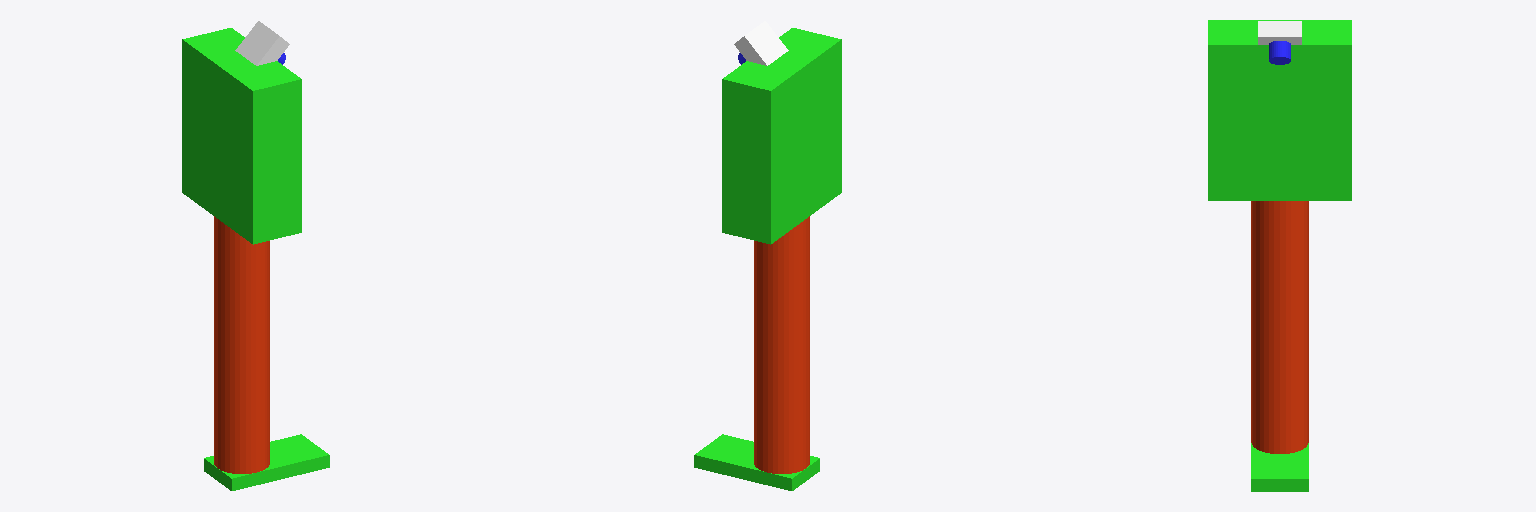
robot.urdf — biped:
<?xml version="1.0"?>
<robot name="biped">

    <!-- Define the body parameters -->
    <link name="base_link">
        <visual>
            <origin xyz="0 0 0" rpy="0 0 0"/>
            <geometry>
                <box size="0.2 0.5 0.6" />
            </geometry>
            <material name="green">
                <color rgba="0.2 1 0.2 1"/>
            </material>
        </visual>
        <collision>
            <origin xyz="0 0 0" rpy="0 0 0"/>
            <geometry>
                <box size="0.2 0.5 0.6" />
            </geometry>
        </collision>
        <inertial>
            <origin xyz="0 0 0" rpy="0 0 0"/>
            <mass value="0.1" />
            <inertia ixx="2.26" ixy="0.0" ixz="0.0" iyy="6.26" iyz="0.0" izz="8.5" />
        </inertial>
    </link>

    <joint name="toss_joint_1" type="revolute"> 
        <origin xyz="0 0 -0.3" rpy="0 0 0"/>
        <parent link="base_link"/>
        <child link="thigh_link_1"/>
        <axis xyz="0 -1 0"/>
        <limit lower="-1.047" upper="1.571" velocity="100" effort="100"/> 
    </joint>

    <link name="thigh_link_1">
        <visual>
            <origin xyz="0 0 -0.25" rpy="0 0 0"/>
            <geometry>                
                <cylinder length="0.5" radius="0.1" />
            </geometry>
            <material name="orange">
                <color rgba="1 0.3 0.1 1"/>
            </material>
        </visual>
        <collision>
            <origin xyz="0 0 -0.25" rpy="0 0 0"/>
            <geometry>
                <cylinder length="0.5" radius="0.1" />
            </geometry>
        </collision>
        <inertial>
            <origin xyz="0 0 -0.25" rpy="0 0 0"/>
            <mass value="10.0" />
            <inertia ixx="0.021875" ixy="0.0" ixz="0.0" iyy="0.021875" iyz="0.0" izz="0.0125" />
        </inertial>
    </link>

    <joint name="toss_joint_2" type="revolute"> 
        <origin xyz="0 0 -0.3" rpy="0 0 0"/>
        <parent link="base_link"/>
        <child link="thigh_link_2"/>
        <axis xyz="0 -1 0"/>
        <limit lower="-1.047" upper="1.571" velocity="100" effort="100"/> 
    </joint>

    <link name="thigh_link_2">
        <visual>
            <origin xyz="0 0 -0.25" rpy="0 0 0"/>
            <geometry>                
                <cylinder length="0.5" radius="0.1" />
            </geometry>
            <material name="blue">
                <color rgba="1 0.3 0.1 1"/>
            </material>
        </visual>
        <collision>
            <origin xyz="0 0 -0.25" rpy="0 0 0"/>
            <geometry>
                <cylinder length="0.5" radius="0.1" />
            </geometry>
        </collision>
        <inertial>
            <origin xyz="0 0 -0.25" rpy="0 0 0"/>
            <mass value="10.0" />
            <inertia ixx="0.021875" ixy="0.0" ixz="0.0" iyy="0.021875" iyz="0.0" izz="0.0125" />
        </inertial>
    </link>

    <joint name="knee_joint_1" type="revolute"> 
        <origin xyz="0 0 -0.5" rpy="0 0 0"/>
        <parent link="thigh_link_1"/>
        <child link="calf_link_1"/>
        <axis xyz="0 -1 0"/>
        <limit lower="-1.571" upper="0" velocity="100" effort="100"/> 
    </joint>

    <link name="calf_link_1">
        <visual>
            <origin xyz="0 0 -0.25" rpy="0 0 0"/>
            <geometry>                
                <cylinder length="0.5" radius="0.1" />
            </geometry>
            <material name="orange">
                <color rgba="1 0.3 0.1 1"/>
            </material>
        </visual>
        <collision>
            <origin xyz="0 0 -0.25" rpy="0 0 0"/>
            <geometry>
                <cylinder length="0.5" radius="0.1" />
            </geometry>
        </collision>
        <inertial>
            <origin xyz="0 0 -0.25" rpy="0 0 0"/>
            <mass value="10.0" />
            <inertia ixx="0.021875" ixy="0.0" ixz="0.0" iyy="0.021875" iyz="0.0" izz="0.0125" />
        </inertial>
    </link>

    <joint name="knee_joint_2" type="revolute"> 
        <origin xyz="0 0 -0.5" rpy="0 0 0"/>
        <parent link="thigh_link_2"/>
        <child link="calf_link_2"/>
        <axis xyz="0 -1 0"/>
        <limit lower="-1.571" upper="0" velocity="100" effort="100"/> 
    </joint>

    <link name="calf_link_2">
        <visual>
            <origin xyz="0 0 -0.25" rpy="0 0 0"/>
            <geometry>                
                <cylinder length="0.5" radius="0.1" />
            </geometry>
            <material name="blue">
                <color rgba="1 0.3 0.1 1"/>
            </material>
        </visual>
        <collision>
            <origin xyz="0 0 -0.25" rpy="0 0 0"/>
            <geometry>
                <cylinder length="0.5" radius="0.1" />
            </geometry>
        </collision>
        <inertial>
            <origin xyz="0 0 -0.25" rpy="0 0 0"/>
            <mass value="10.0" />
            <inertia ixx="0.021875" ixy="0.0" ixz="0.0" iyy="0.021875" iyz="0.0" izz="0.0125" />
        </inertial>
    </link>

    <joint name="ankle_joint_1" type="fixed"> 
        <origin xyz="0 0 -0.5" rpy="0 0 0"/>
        <parent link="calf_link_1"/>
        <child link="foot_link_1"/>
    </joint>

    <link name="foot_link_1">
        <visual>
            <origin xyz="0.1 0 0" rpy="0 0 0"/>
            <geometry>
                <box size="0.4 0.2 0.05" />
            </geometry>
            <material name="green">
                <color rgba="0.2 1 0.2 1"/>
            </material>
        </visual>
        <collision>
            <origin xyz="0.1 0 0" rpy="0 0 0"/>
            <geometry>
                <box size="0.4 0.2 0.05" />
            </geometry>
        </collision>
        <inertial>
            <origin xyz="0.1 0 0" rpy="0 0 0"/>
            <mass value="100" />
            <inertia ixx="2.26" ixy="0.0" ixz="0.0" iyy="6.26" iyz="0.0" izz="8.5" />
        </inertial>
    </link>

    <joint name="ankle_joint_2" type="fixed"> 
        <origin xyz="0 0 -0.5" rpy="0 0 0"/>
        <parent link="calf_link_2"/>
        <child link="foot_link_2"/>
    </joint>

    <link name="foot_link_2">
        <visual>
            <origin xyz="0.1 0 0" rpy="0 0 0"/>
            <geometry>
                <box size="0.4 0.2 0.05" />
            </geometry>
            <material name="green">
                <color rgba="0.2 1 0.2 1"/>
            </material>
        </visual>
        <collision>
            <origin xyz="0.1 0 0" rpy="0 0 0"/>
            <geometry>
                <box size="0.4 0.2 0.05" />
            </geometry>
        </collision>
        <inertial>
            <origin xyz="0.1 0 0" rpy="0 0 0"/>
            <mass value="100" />
            <inertia ixx="2.26" ixy="0.0" ixz="0.0" iyy="6.26" iyz="0.0" izz="8.5" />
        </inertial>
    </link>

    <joint name="camera_joint" type="fixed">
        <origin xyz="0.1 0 0.3" rpy="0 0.785 0"/>
        <parent link="base_link"/>
        <child link="camera_link"/>        
    </joint>

    <link name="camera_link">
        <visual>
            <origin xyz="-0.03 0 0" rpy="0 0 0"/>
            <geometry>
                <box size="0.06 0.15 0.15" />
            </geometry>
            <material name="white">
                <color rgba="1 1 1 1"/>
            </material>
        </visual>
        <visual>
            <origin xyz="0.03 0 0" rpy="0 1.571 0"/>
            <geometry>
                <cylinder length="0.06" radius="0.04" />
            </geometry>
            <material name="blue">
                <color rgba="0.2 0.2 1 1"/>
            </material>
        </visual>
        <collision>
            <origin xyz="0.0 0 0" rpy="0 0 0"/>
            <geometry>
                <box size="0.12 0.15 0.15" />
            </geometry>
        </collision>
        <inertial>
            <origin xyz="0.0 0 0" rpy="0 0 0"/>
            <mass value="0.1" />
            <inertia ixx="0.00078125" ixy="0.0" ixz="0.0" iyy="0.0009375" iyz="0.0" izz="0.00125" />
        </inertial>
    </link>

</robot>

--- Render facts (derived) ---
3 views of the same robot in one strip: view 1: azimuth 30°, elevation 25°; view 2: azimuth 150°, elevation 25°; view 3: azimuth 270°, elevation 25° (orthographic).
Robot: biped — 8 links, 7 joints (4 revolute, 3 fixed); root link base_link; default pose: every joint at zero.
Visible links, largest first — view 1: base_link, calf_link_1, thigh_link_1, foot_link_1, camera_link; view 2: base_link, calf_link_1, thigh_link_1, foot_link_1, camera_link; view 3: base_link, thigh_link_1, calf_link_1, foot_link_1, camera_link.
Boxes of the visible links, bbox=[...] form: base_link: bbox=[182, 28, 301, 244]; calf_link_1: bbox=[214, 343, 269, 473]; thigh_link_1: bbox=[214, 216, 269, 352]; foot_link_1: bbox=[204, 434, 329, 490]; camera_link: bbox=[235, 21, 289, 65]; base_link: bbox=[722, 28, 841, 244]; calf_link_1: bbox=[754, 343, 809, 473]; thigh_link_1: bbox=[754, 216, 809, 352]; foot_link_1: bbox=[694, 434, 819, 490]; camera_link: bbox=[734, 21, 788, 65]; base_link: bbox=[1208, 20, 1351, 200]; thigh_link_1: bbox=[1251, 201, 1308, 330]; calf_link_1: bbox=[1251, 319, 1308, 453]; foot_link_1: bbox=[1251, 443, 1308, 491]; camera_link: bbox=[1258, 21, 1301, 64].
Size in the robot's own frame: 0.4 by 0.5 by 1.72 metres.
Geometry: primitives only (box / cylinder / sphere), no mesh files.